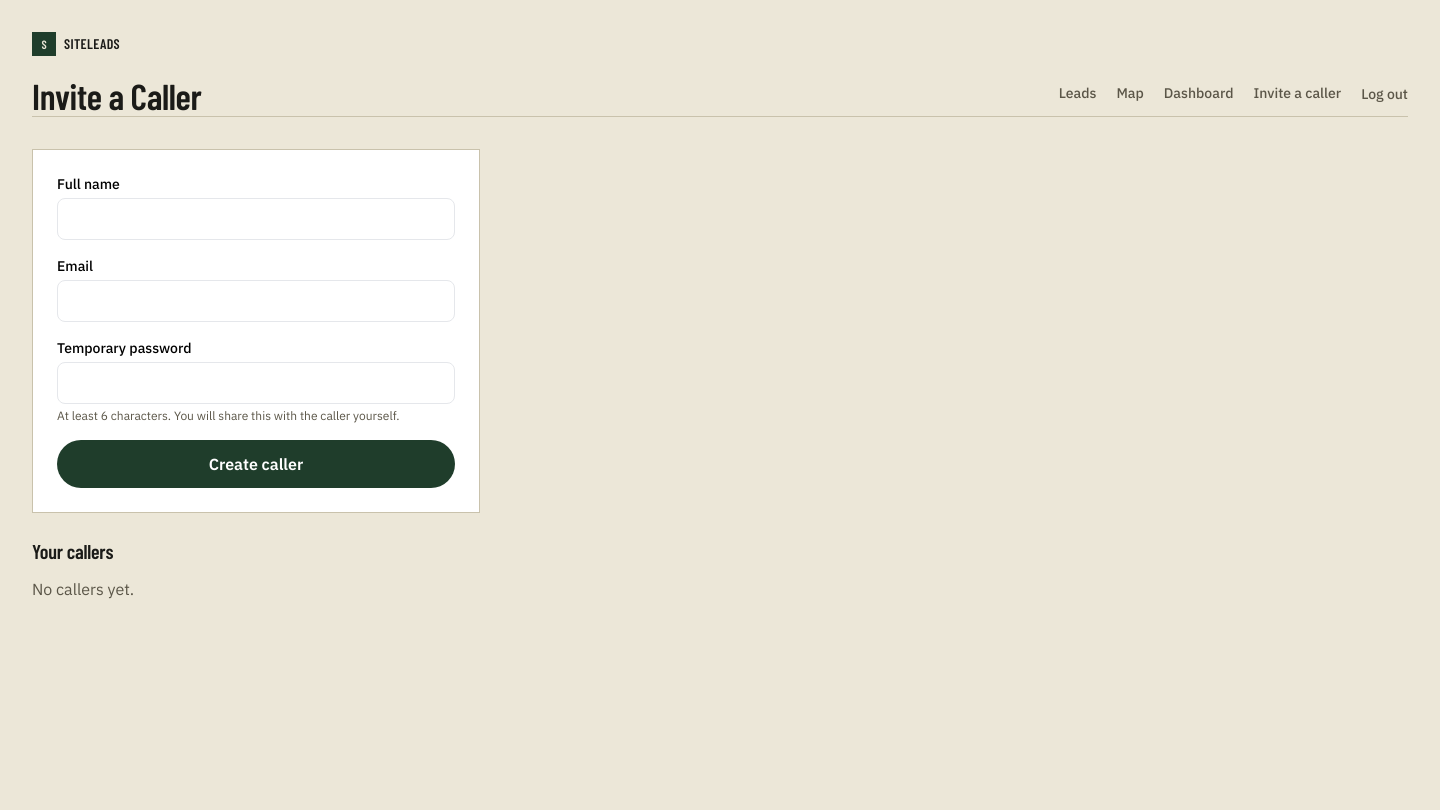
it: InviteCallerScreen › sends what the owner typed and confirms the new caller
Expected: the text "No callers yet." is shown, [32,579,134,599]
Type "Caller One" into the field labelled "Full name".
click(256, 219); type("Caller One")  # box [57,198,455,240]
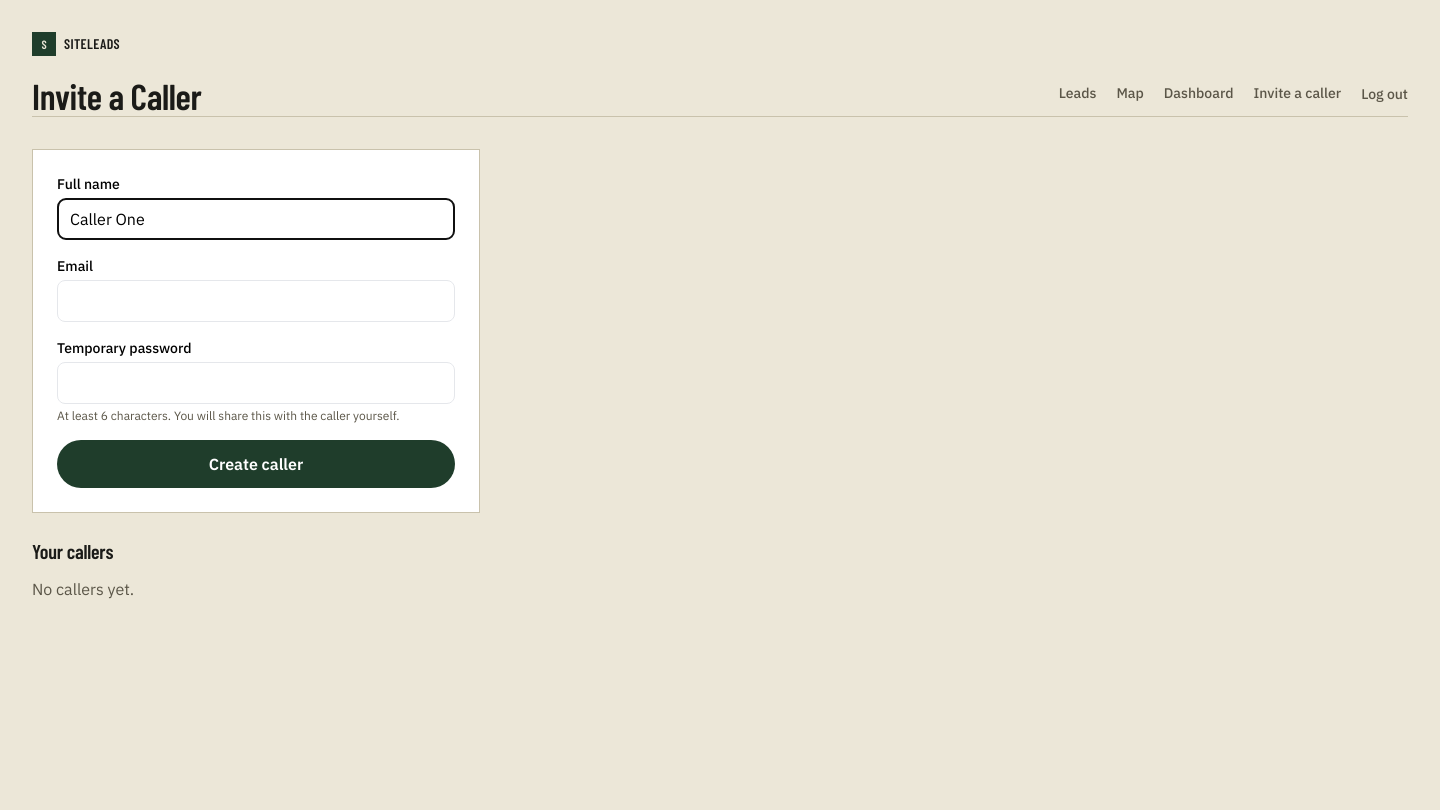
Type "caller@example.com" into the field labelled "Email".
click(256, 301); type("caller@example.com")  # box [57,280,455,322]
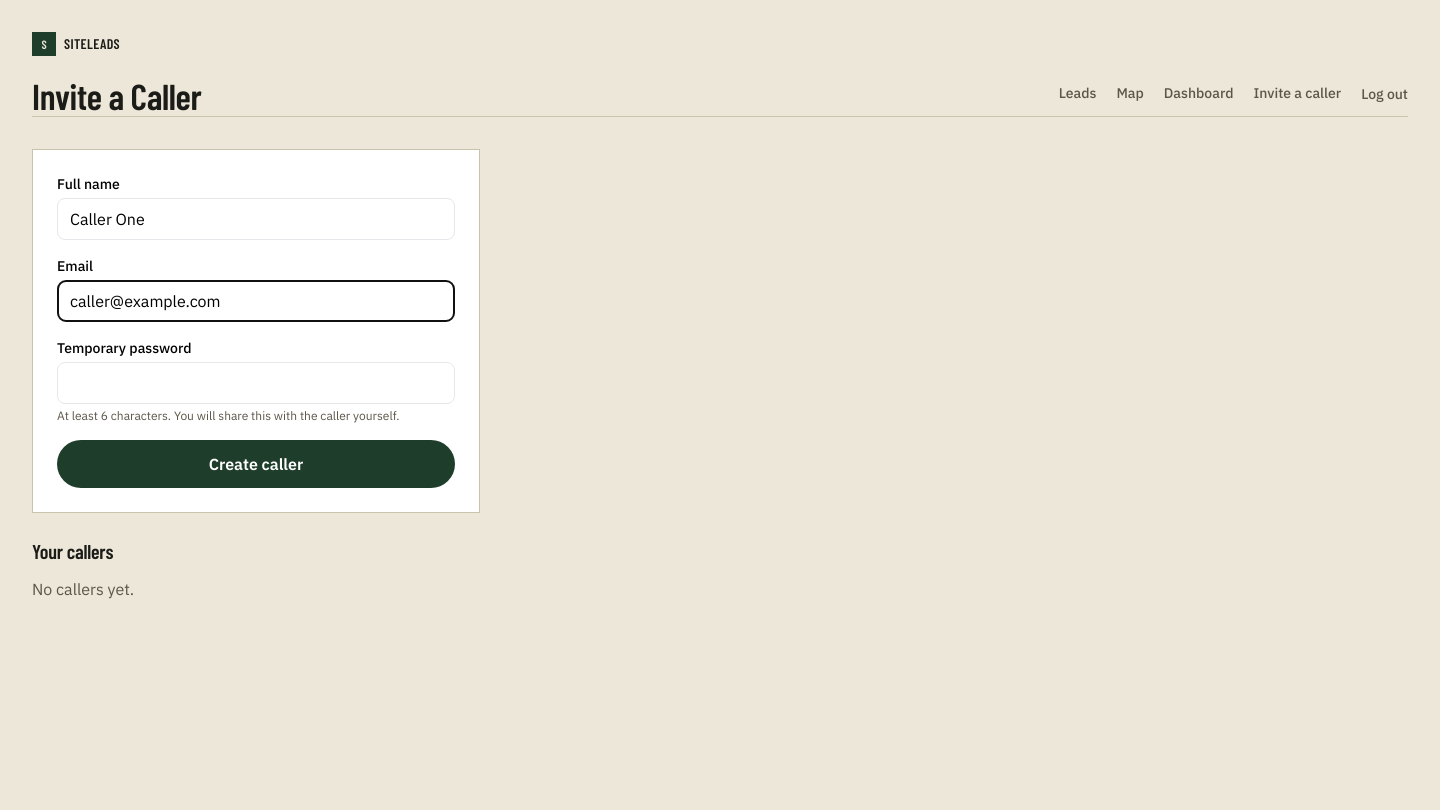
Type "secret12" into the field labelled "Temporary password".
click(256, 383); type("secret12")  # box [57,362,455,404]
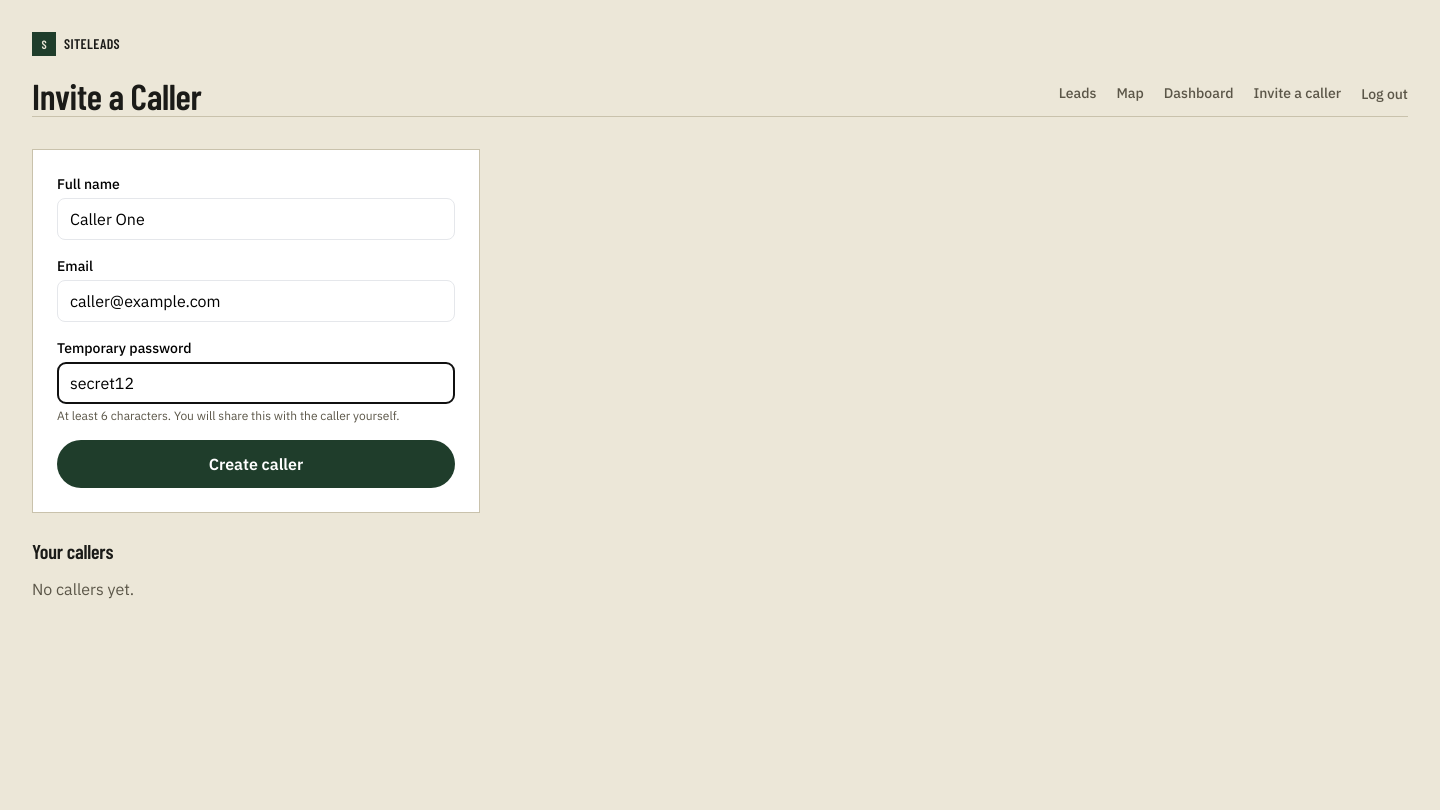
Click the button "Create caller".
click(256, 464)  # box [57,440,455,488]
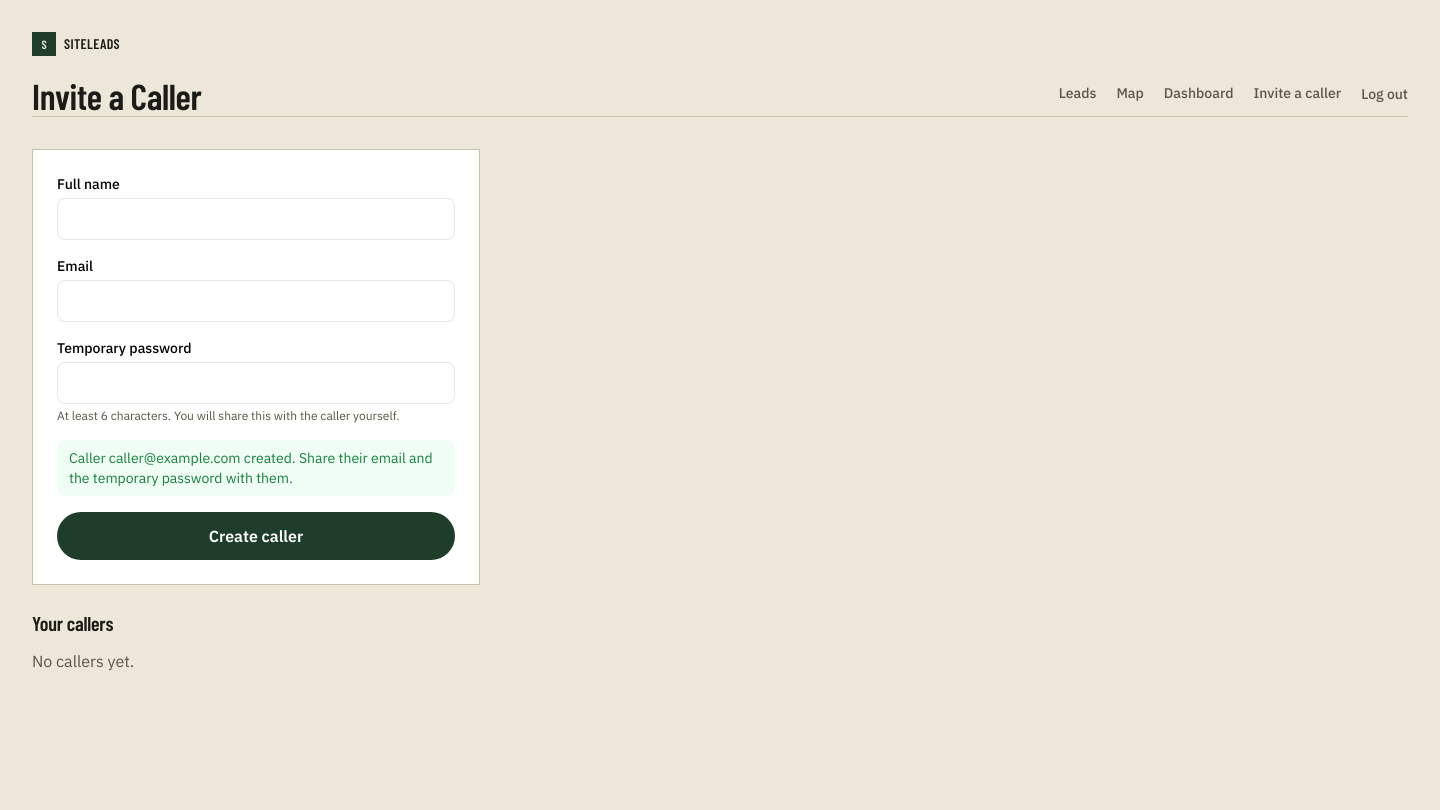
Expected: the text "Caller caller@example.com created" is shown, [69,449,433,487]
